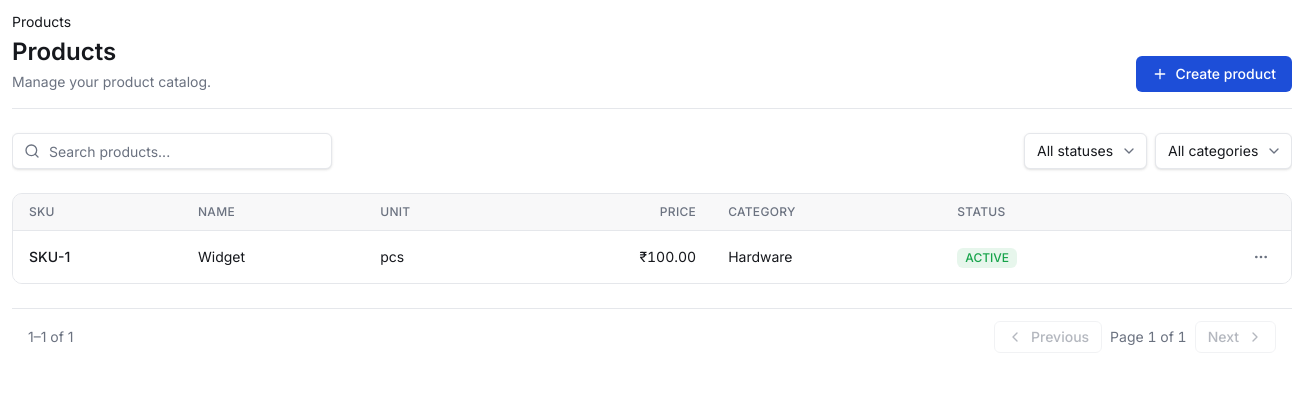
Scenario: ProductsListPage › RBAC visibility › OWNER sees Create, Edit, and Deactivate
Expected: the text "Widget" is shown, [182,231,364,283]
Click the button named "Actions for Widget" at (1261,257), box [1247,243,1275,271]
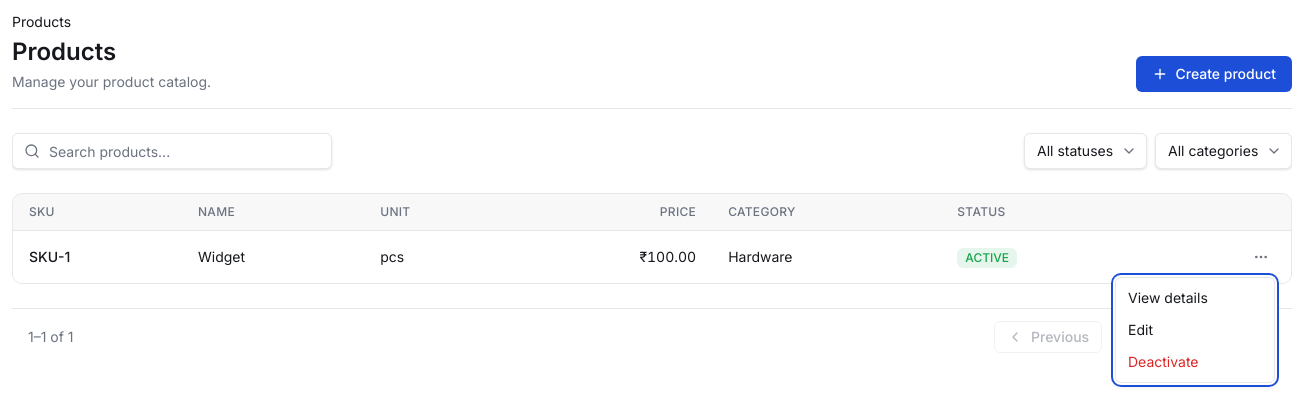
Now the menu item "Edit" is shown, box [1128,321,1153,338]
Now the menu item "Deactivate" is shown, box [1128,353,1198,370]
